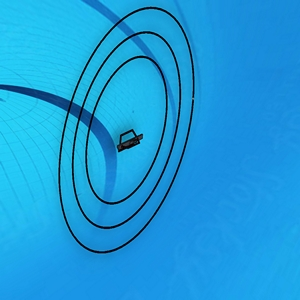circle: (47, 1, 205, 272)
submarine: (117, 132, 146, 152)
